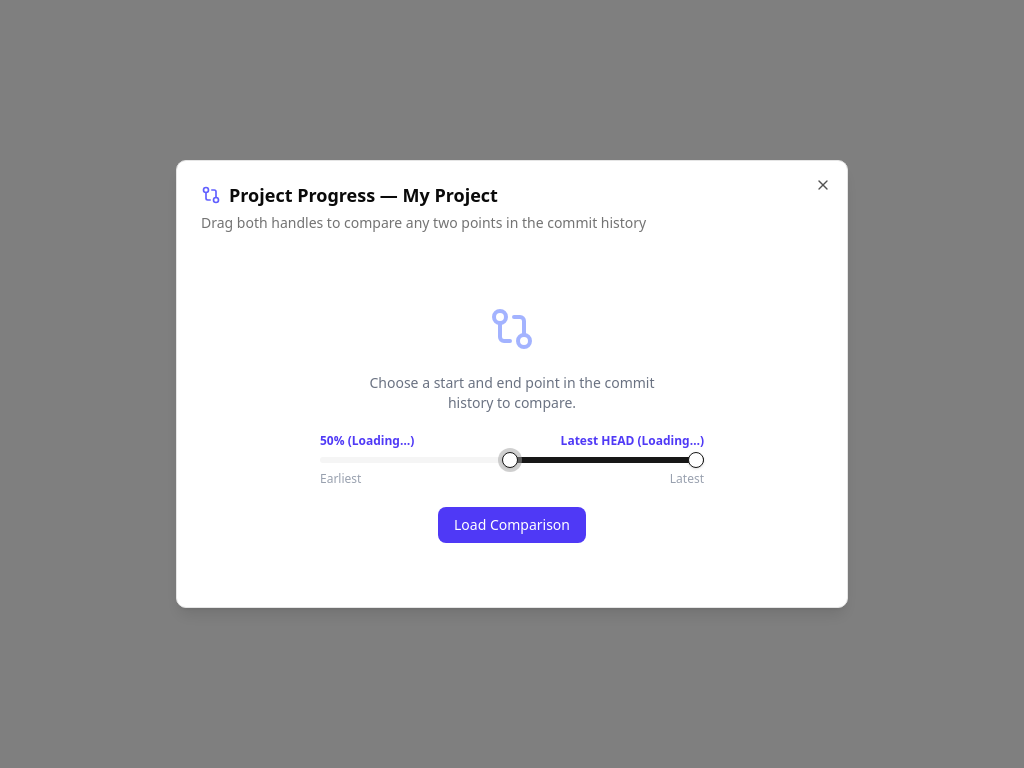
SnapshotComparisonModal › reveals removed library badge when Libraries row is expanded
The width and height of the screenshot is (1024, 768).
Click the button "Load Comparison": (512, 525) [438,507,586,543]
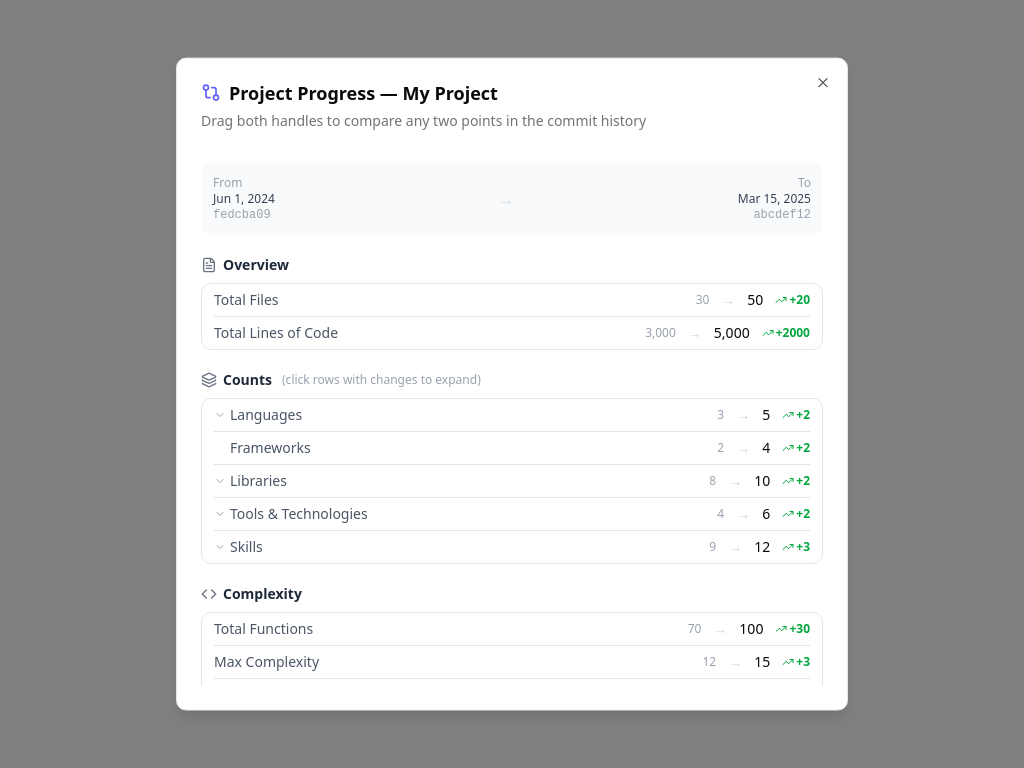
Expected: the text "50% (Loading…)" is gone
Click the text "Libraries": (250, 481) [214,471,287,491]
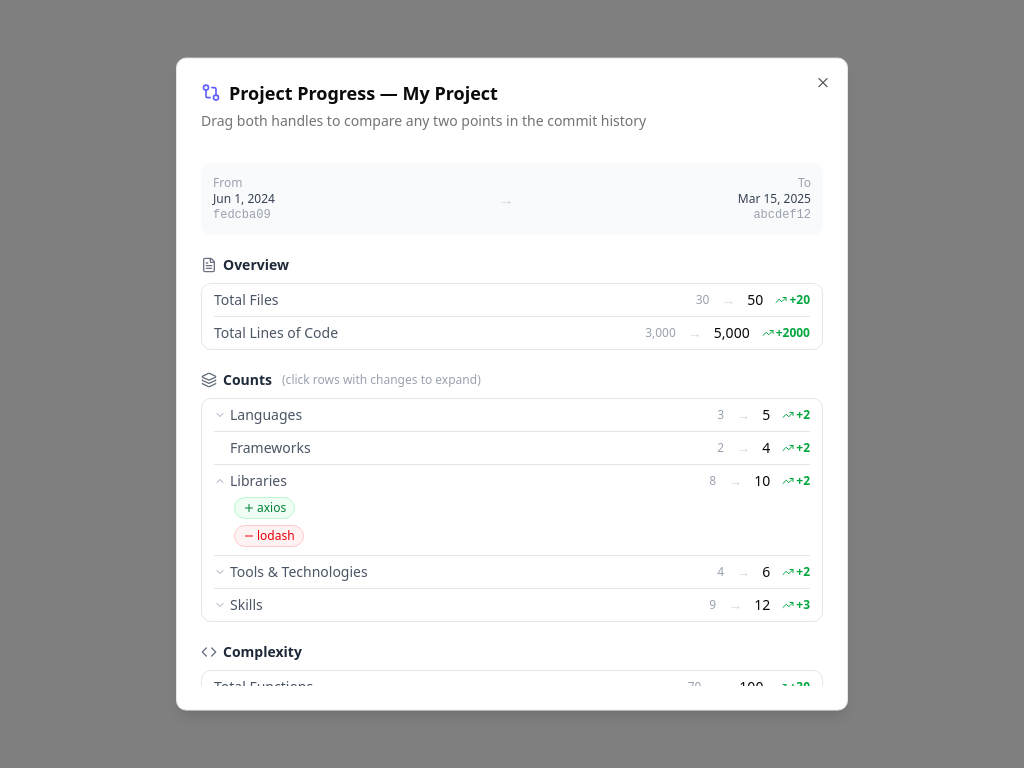
Expected: the text "lodash" is shown, [234,525,304,547]
